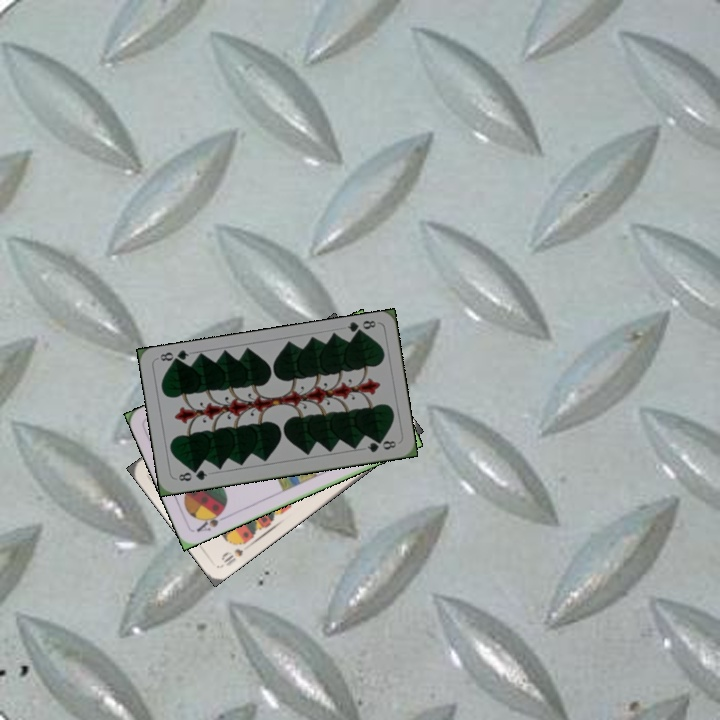G8: (343, 316, 378, 338), (174, 465, 210, 484)
S10: (217, 544, 246, 569)
SA: (192, 506, 230, 535)
